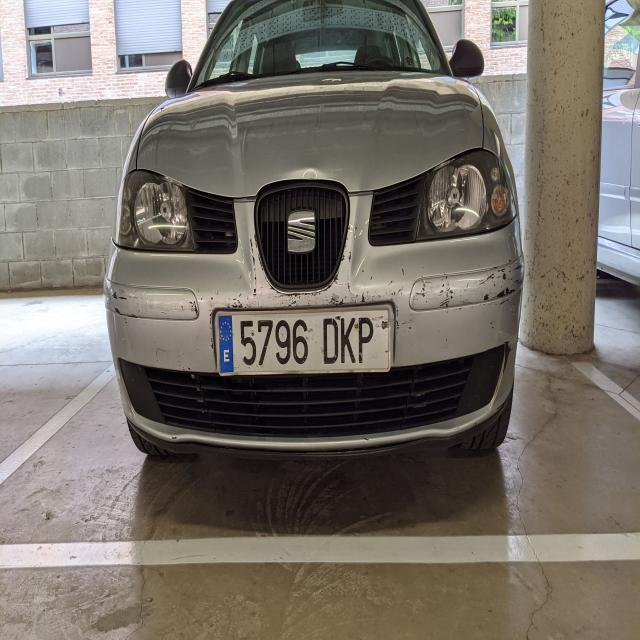license_plate-34Td: (216, 305, 394, 375)
